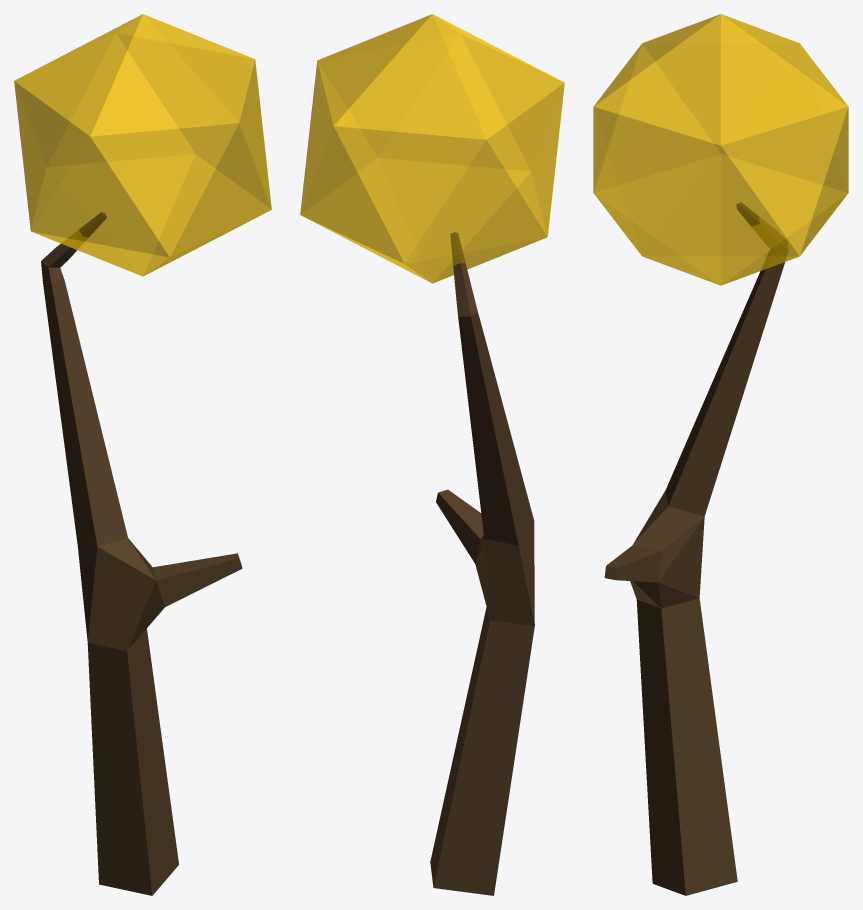
File: tree4.glb
3 views of the same model, side by side, from view 1: azimuth 30°, elevation 25°; view 2: azimuth 150°, elevation 25°; view 3: azimuth 270°, elevation 25° (orthographic). The views are drawn at different scales.
Parts seen in each view (by area): view 1: Icosphere.006, Cube.001; view 2: Icosphere.006, Cube.001; view 3: Icosphere.006, Cube.001.
Boxes of the visible parts, x1=… form: Icosphere.006: x1=14, y1=14, x2=271, y2=276; Cube.001: x1=41, y1=212, x2=242, y2=895; Icosphere.006: x1=300, y1=14, x2=564, y2=283; Cube.001: x1=430, y1=232, x2=534, y2=895; Icosphere.006: x1=593, y1=14, x2=848, y2=285; Cube.001: x1=604, y1=202, x2=784, y2=895.
Size of the model in its own units: 2.17 by 7.86 by 2.06.
